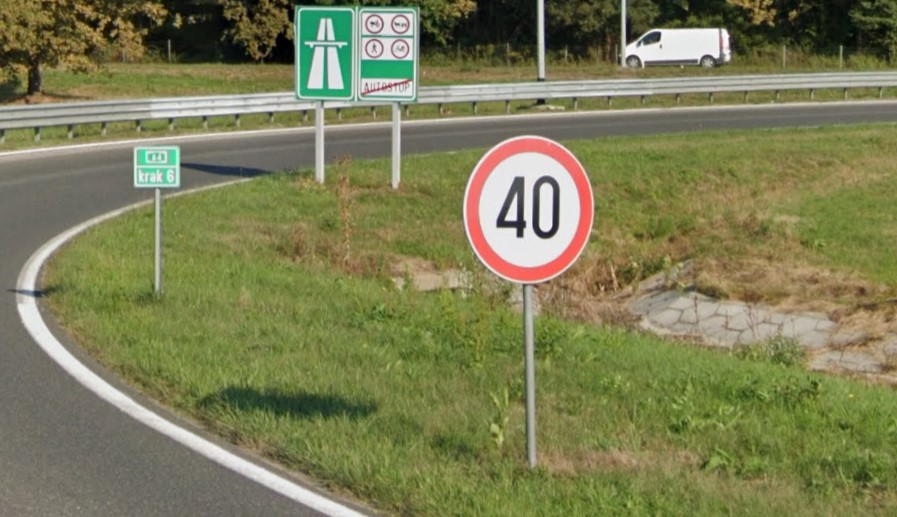Ograničenje brzine 40: (463, 135, 595, 283)
